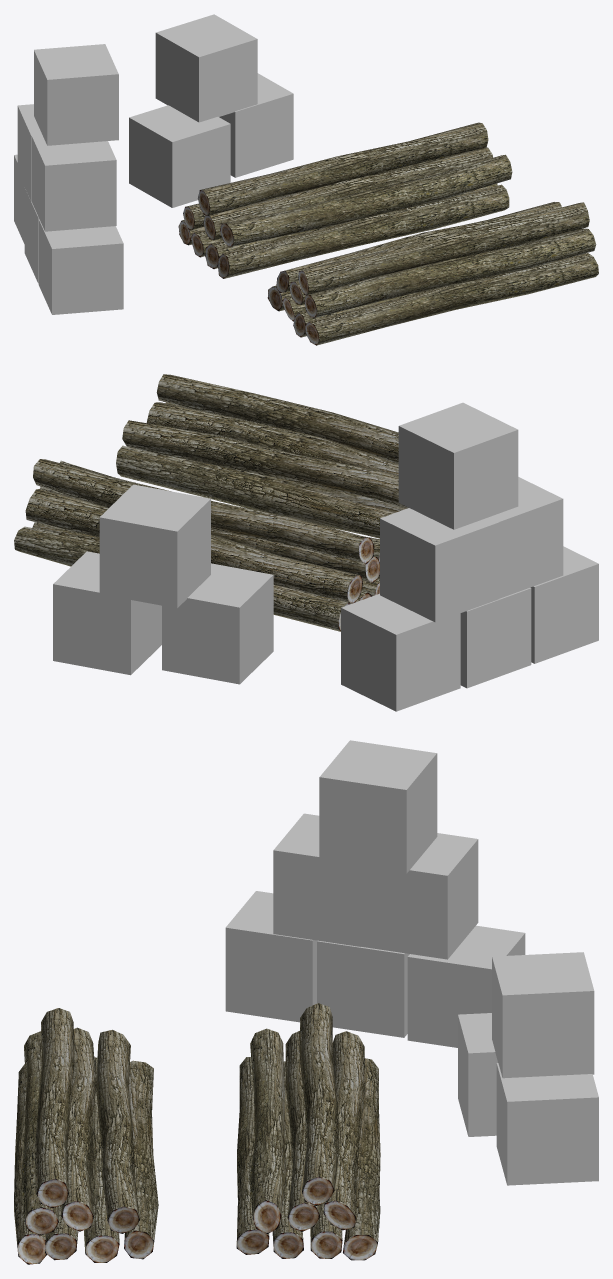
Rendered from BuildProcess.obj.
3 views of the same model, one above another, from view 1: azimuth 30°, elevation 25°; view 2: azimuth 150°, elevation 25°; view 3: azimuth 270°, elevation 25° (orthographic). The views are drawn at different scales.
Visible parts, largest first — view 1: Cube_Cube.008, Cube_Cube.006, Cube_Cube.005, Log_005, Log_006, Log_008, Log_015, Log_009, Log_016, Cube_Cube.004, Cube_Cube.001, Cube_Cube.007 (+8 smaller); view 2: Cube_Cube.005, Cube_Cube.008, Cube_Cube.002, Cube_Cube.003, Cube_Cube.006, Cube_Cube.007, Log_012, Log_011, Log_008, Log_009, Log_003, Cube_Cube.004 (+7 smaller); view 3: Cube_Cube.005, Cube_Cube.008, Cube_Cube.003, Cube_Cube.007, Cube_Cube.001, Cube_Cube.004, Cube_Cube.002, Cube_Cube.000, Log_011, Log_008, Log_009, Log_006 (+13 smaller).
Part boxes in pixels (box(x1,y1,x2,y2)): Cube_Cube.008: box(155, 14, 257, 122); Cube_Cube.006: box(129, 105, 230, 207); Cube_Cube.005: box(34, 44, 118, 145); Log_005: box(218, 184, 509, 278); Log_006: box(220, 154, 512, 246); Log_008: box(198, 122, 488, 215); Log_015: box(305, 253, 598, 345); Log_009: box(298, 202, 589, 295); Log_016: box(304, 228, 596, 317); Cube_Cube.004: box(31, 135, 116, 231); Cube_Cube.001: box(38, 219, 123, 314); Cube_Cube.007: box(219, 73, 293, 177); Cube_Cube.005: box(398, 402, 518, 529); Cube_Cube.008: box(99, 484, 210, 608); Cube_Cube.002: box(341, 593, 460, 711); Cube_Cube.003: box(380, 508, 499, 622); Cube_Cube.006: box(162, 563, 273, 684); Cube_Cube.007: box(53, 551, 161, 675); Log_012: box(116, 445, 394, 538); Log_011: box(122, 420, 408, 508); Log_008: box(33, 459, 374, 563); Log_009: box(156, 374, 398, 462); Log_003: box(25, 488, 362, 603); Cube_Cube.004: box(489, 477, 563, 598); Cube_Cube.005: box(319, 740, 437, 873); Cube_Cube.008: box(492, 952, 594, 1078); Cube_Cube.003: box(360, 833, 478, 959); Cube_Cube.007: box(496, 1063, 598, 1185); Cube_Cube.001: box(225, 891, 316, 1022); Cube_Cube.004: box(273, 813, 360, 946); Cube_Cube.002: box(407, 925, 525, 1047); Cube_Cube.000: box(317, 940, 409, 1037); Log_011: box(96, 1029, 139, 1233); Log_008: box(300, 1003, 339, 1205); Log_009: box(34, 1008, 74, 1207); Log_006: box(249, 1028, 286, 1233).
Size of the model in its own units: 8.56 by 3.74 by 7.44.
